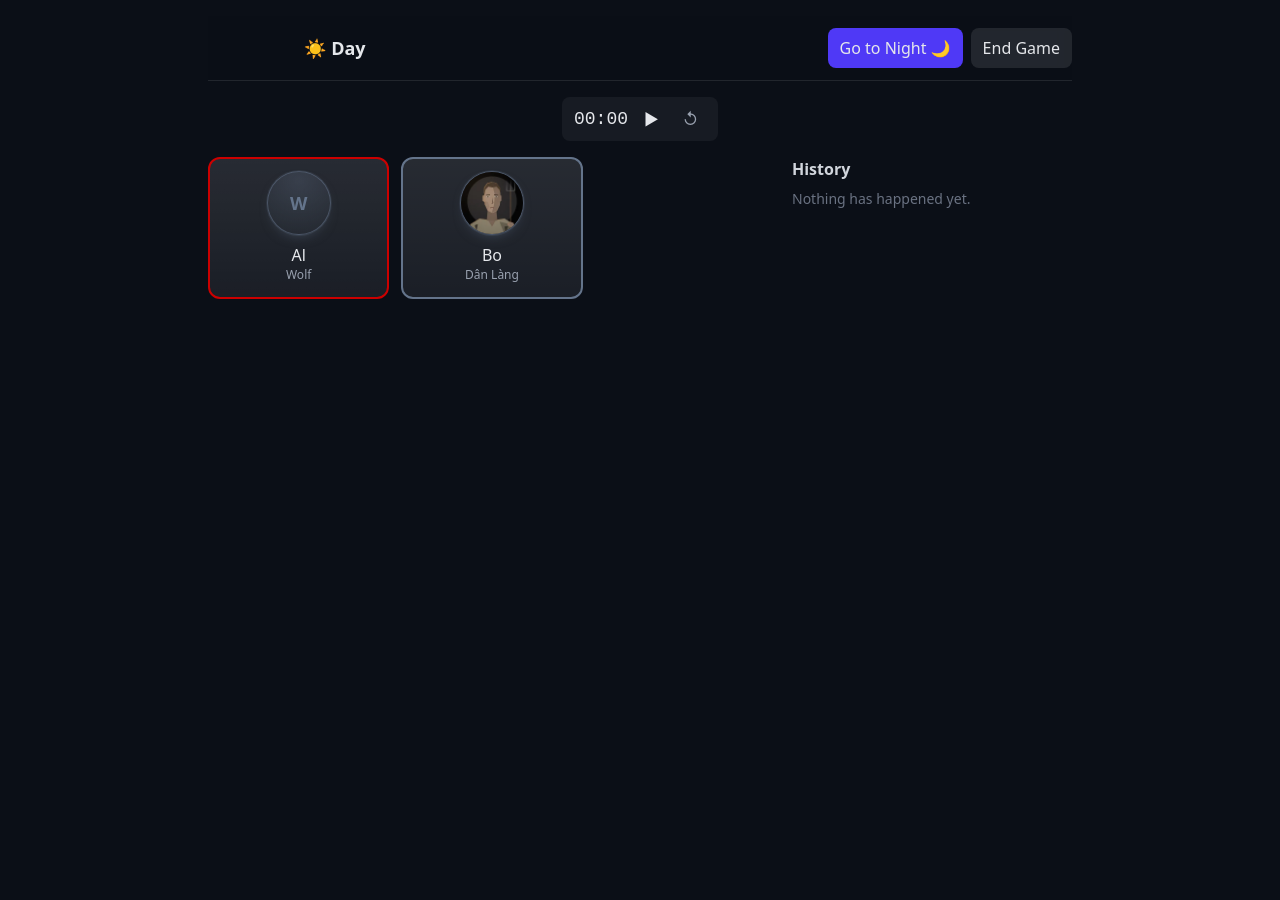
it: Day player dialog › closes without eliminating when cancelled
Click the text "Bo": (492, 255) [482,244,502,266]
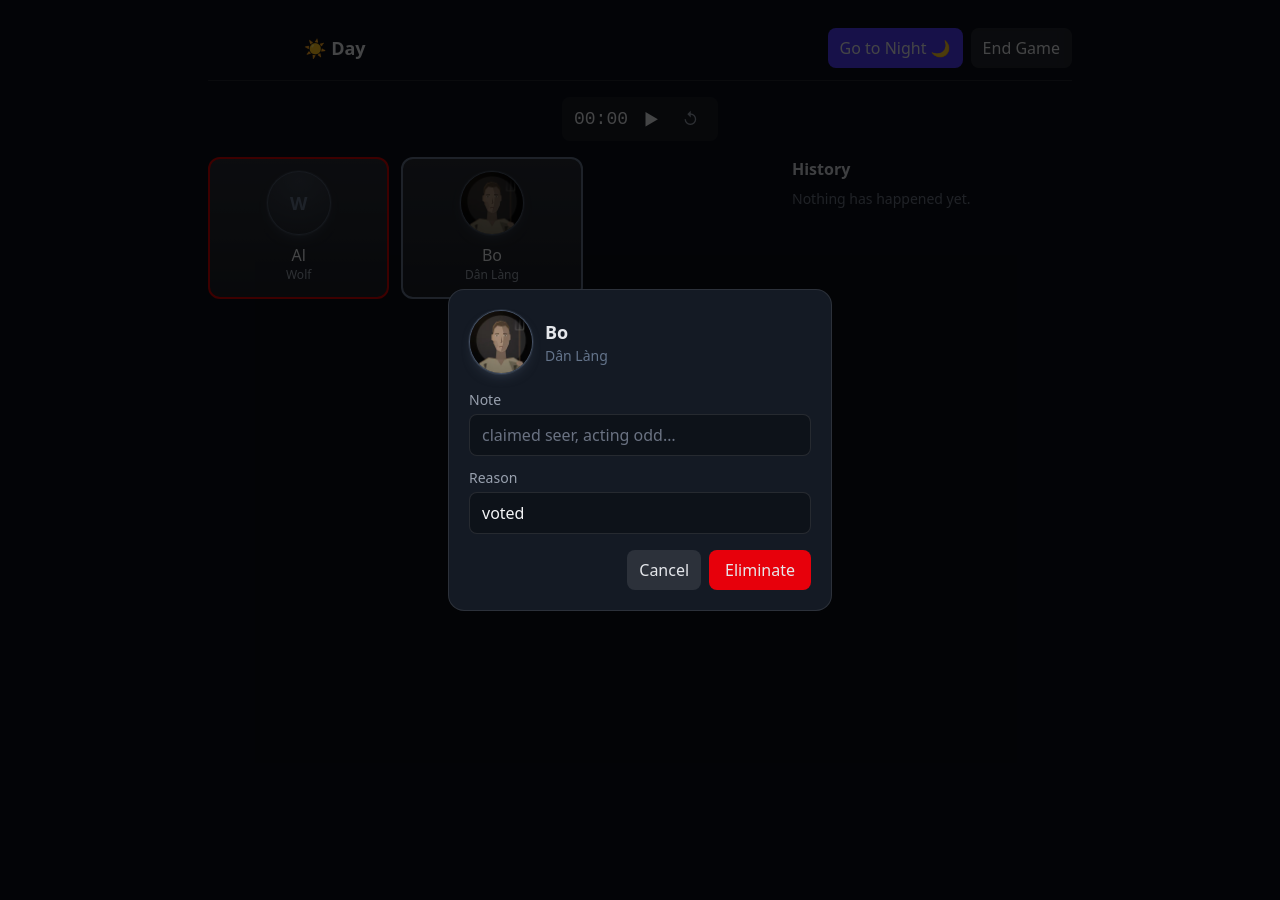
Click the button "Cancel": (664, 570) [627,550,701,590]
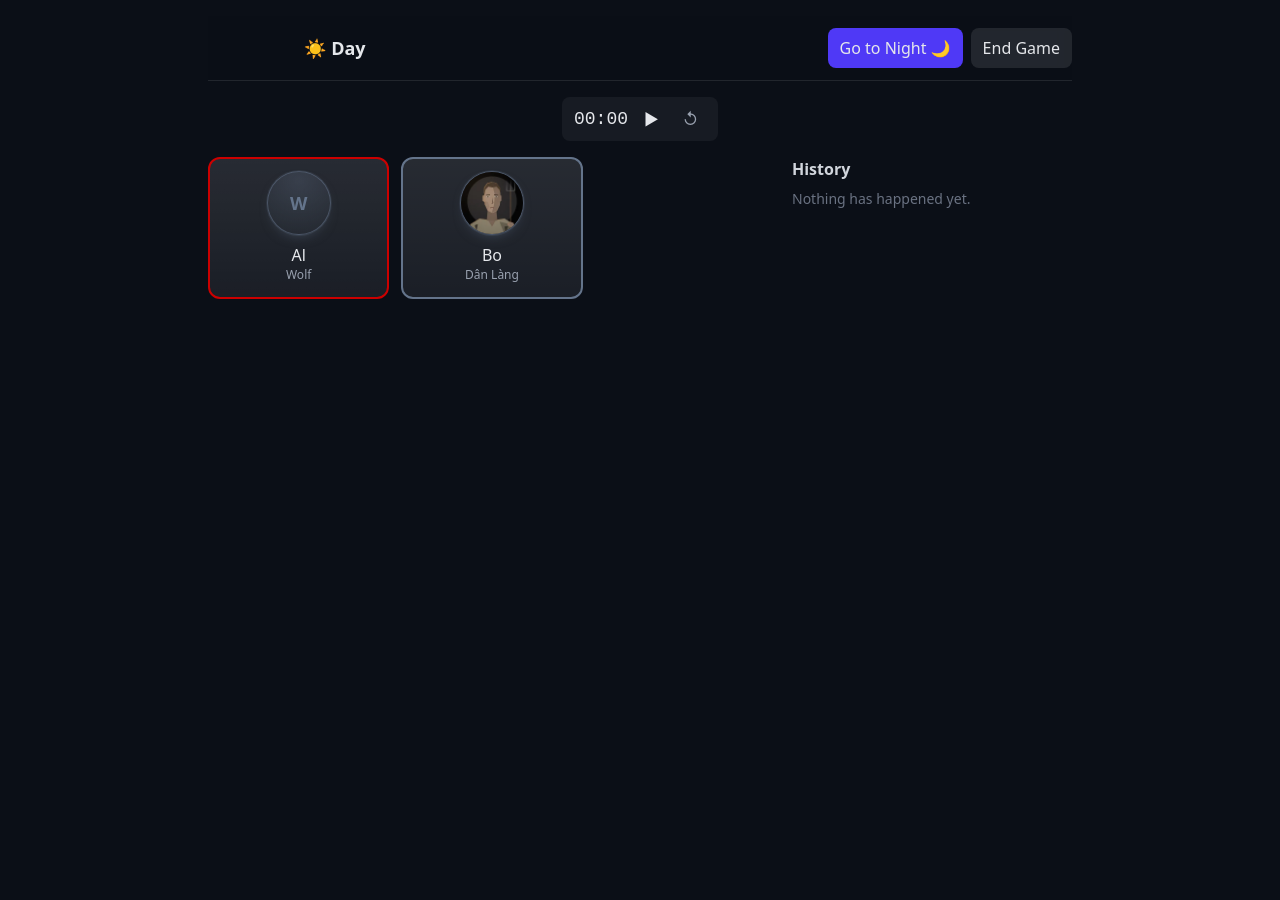
Check: the dialog is gone
